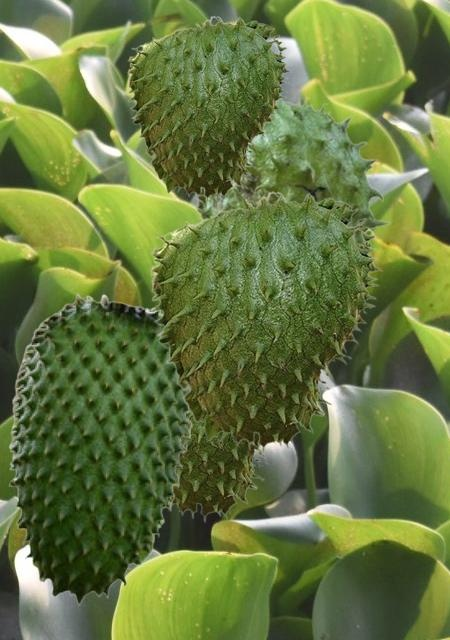guyabano: (150, 190, 382, 454), (8, 293, 192, 604), (190, 93, 391, 255), (127, 15, 291, 202), (167, 413, 277, 522)
